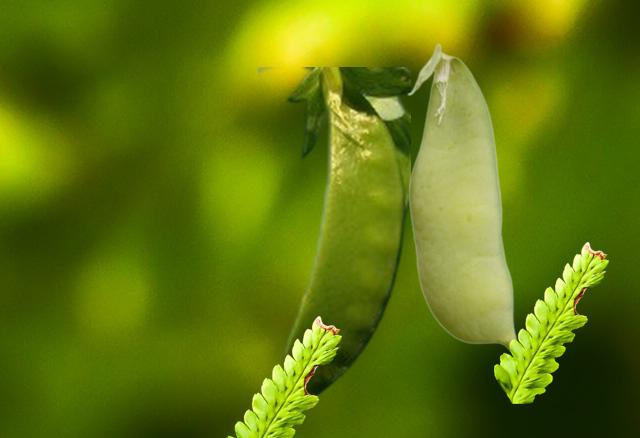pea: (258, 67, 409, 398), (406, 43, 517, 352)
